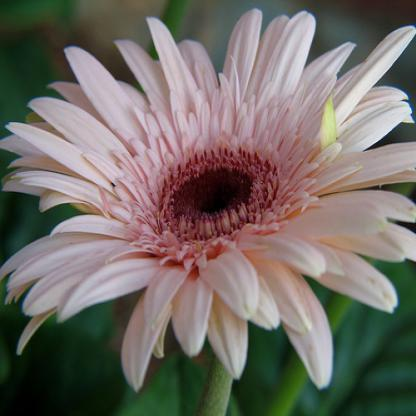ASTER: (6, 22, 410, 409)
